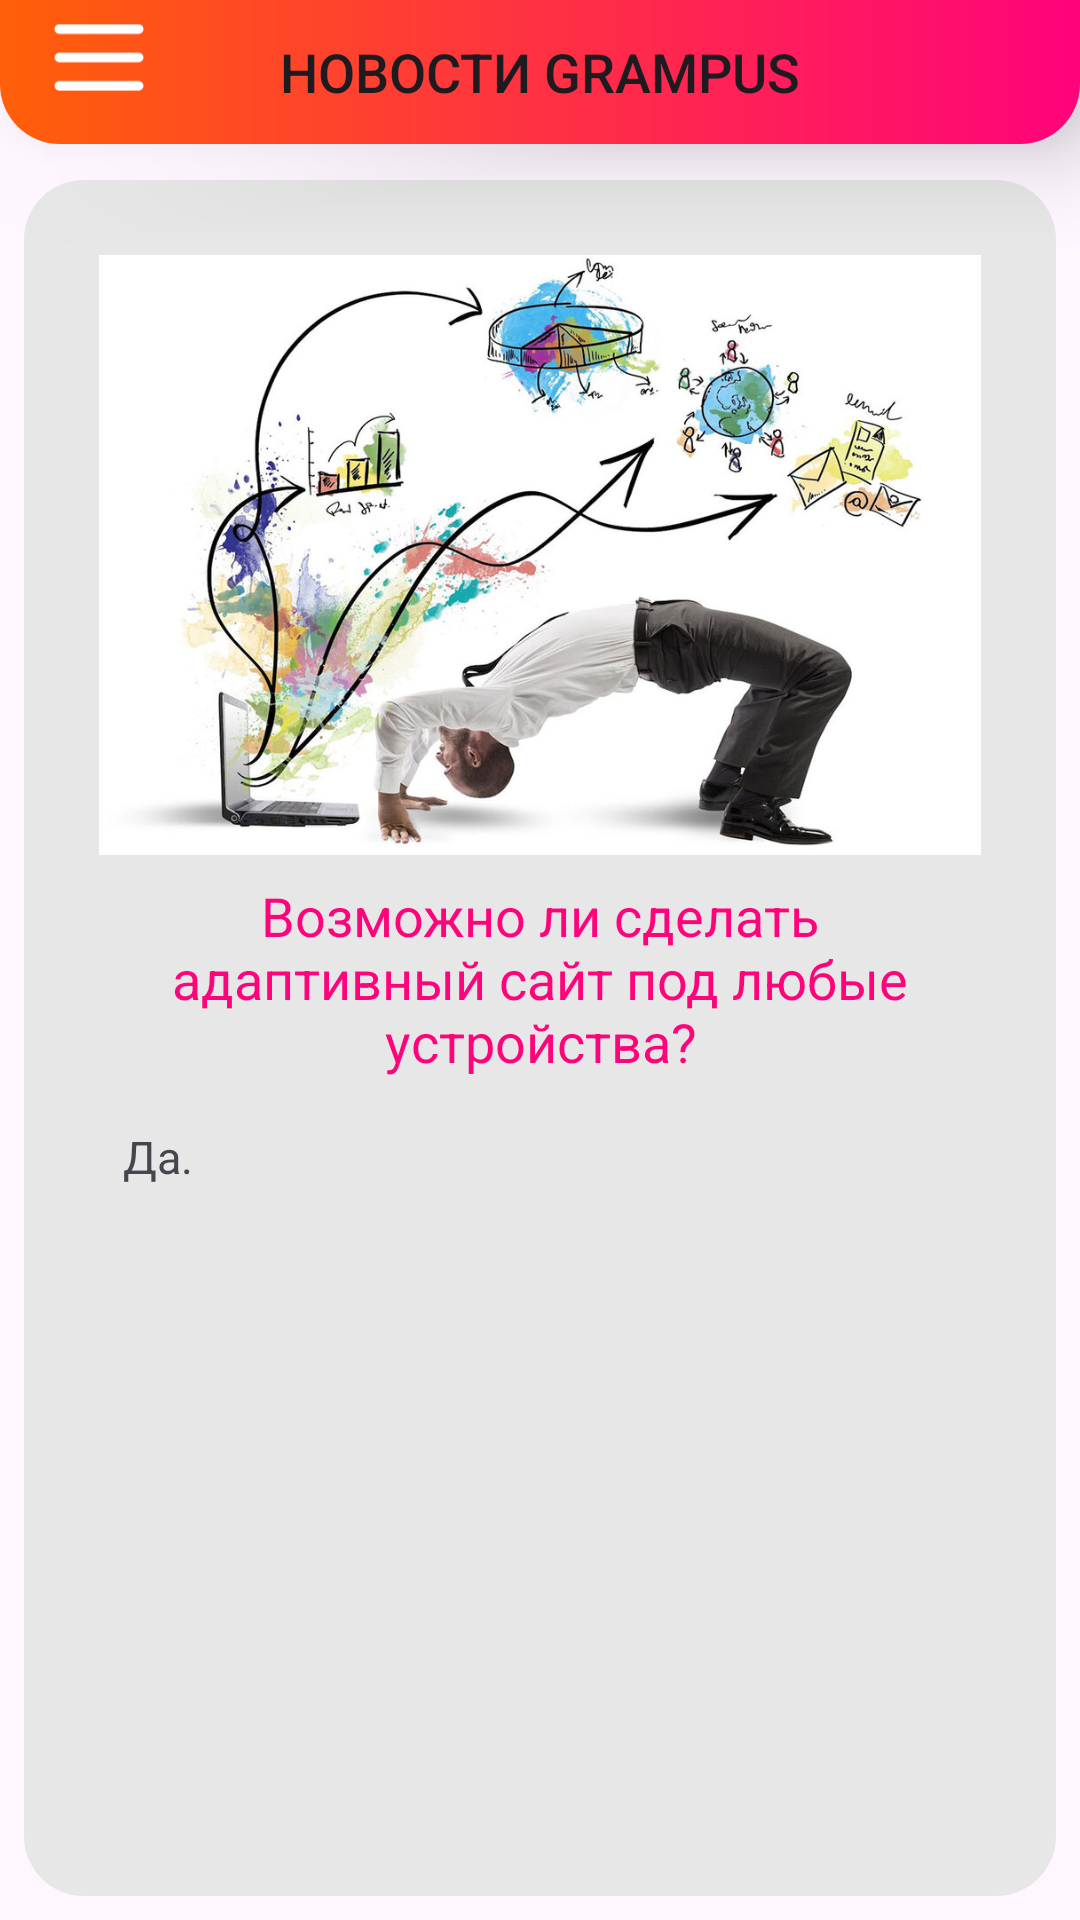

Icon click points for this 1080x1920 phone screenshot, format (x=x, y=y):
burger menu: (x=99, y=57)
